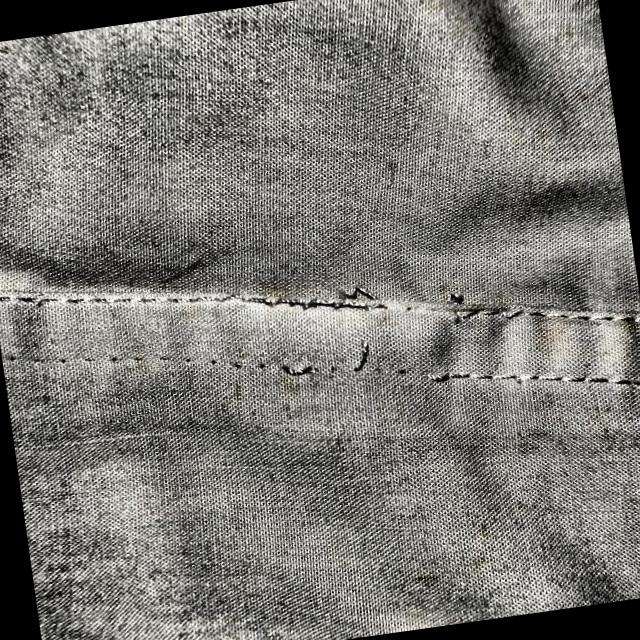gray stitch: (254, 240, 570, 452)
